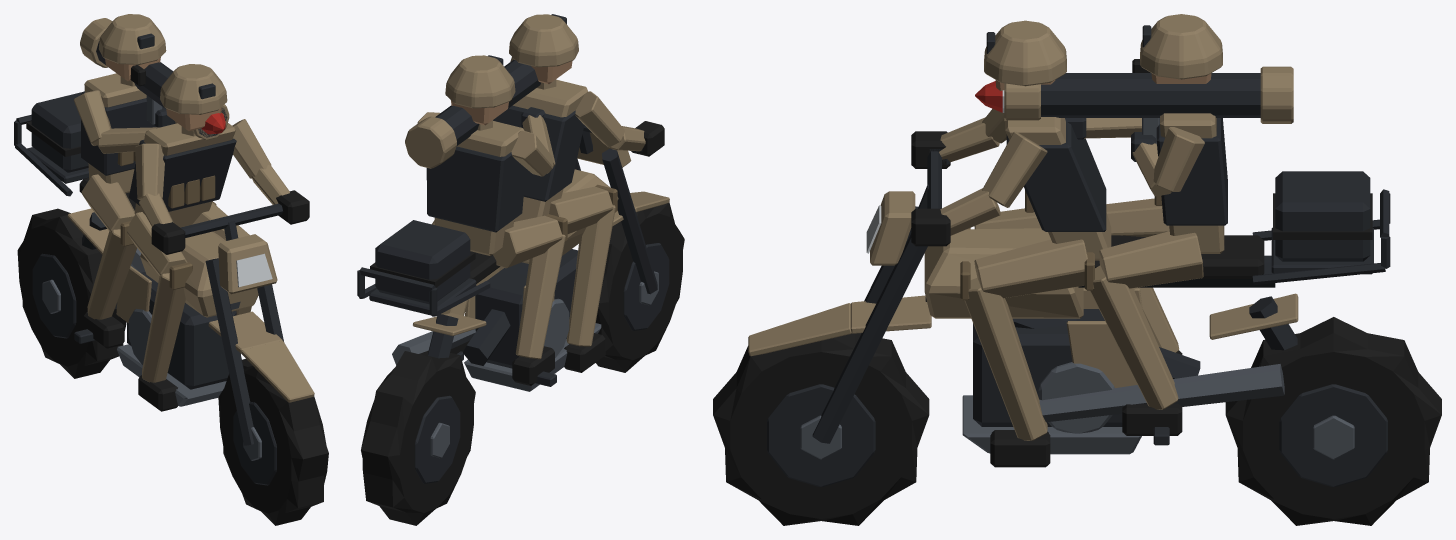
Rendered from moto-recon-n2.glb.
3 views of the same model, side by side, from view 1: azimuth 30°, elevation 25°; view 2: azimuth 150°, elevation 25°; view 3: azimuth 270°, elevation 25° (orthographic). The views are drawn at different scales.
Visible parts, largest first — view 1: casco, wheel_F, wheel_B, turret_yaw, gun_pitch, rocket_01; view 2: casco, wheel_B, turret_yaw, wheel_F, gun_pitch; view 3: casco, wheel_B, wheel_F, gun_pitch, turret_yaw.
Boxes of the visible parts, <box> form: casco: <box>14,64,314,445</box>; wheel_F: <box>218,359,328,525</box>; wheel_B: <box>17,208,126,378</box>; turret_yaw: <box>81,14,166,193</box>; gun_pitch: <box>73,18,229,153</box>; rocket_01: <box>201,113,225,134</box>; casco: <box>357,14,669,391</box>; wheel_B: <box>361,350,475,525</box>; turret_yaw: <box>426,55,525,255</box>; wheel_F: <box>595,202,684,372</box>; gun_pitch: <box>405,57,555,176</box>; casco: <box>748,20,1390,467</box>; wheel_B: <box>1225,317,1441,525</box>; wheel_F: <box>713,333,929,525</box>; gun_pitch: <box>1004,59,1293,196</box>; turret_yaw: <box>1140,14,1227,253</box>.
Bounding box in the file's own units: 0.294 × 0.745 × 0.9954.
